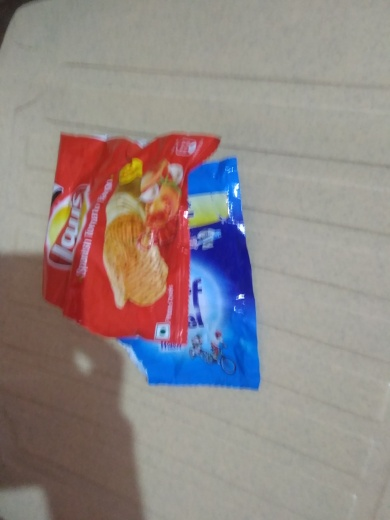lays: (33, 117, 203, 346)
surf: (111, 163, 283, 399)
